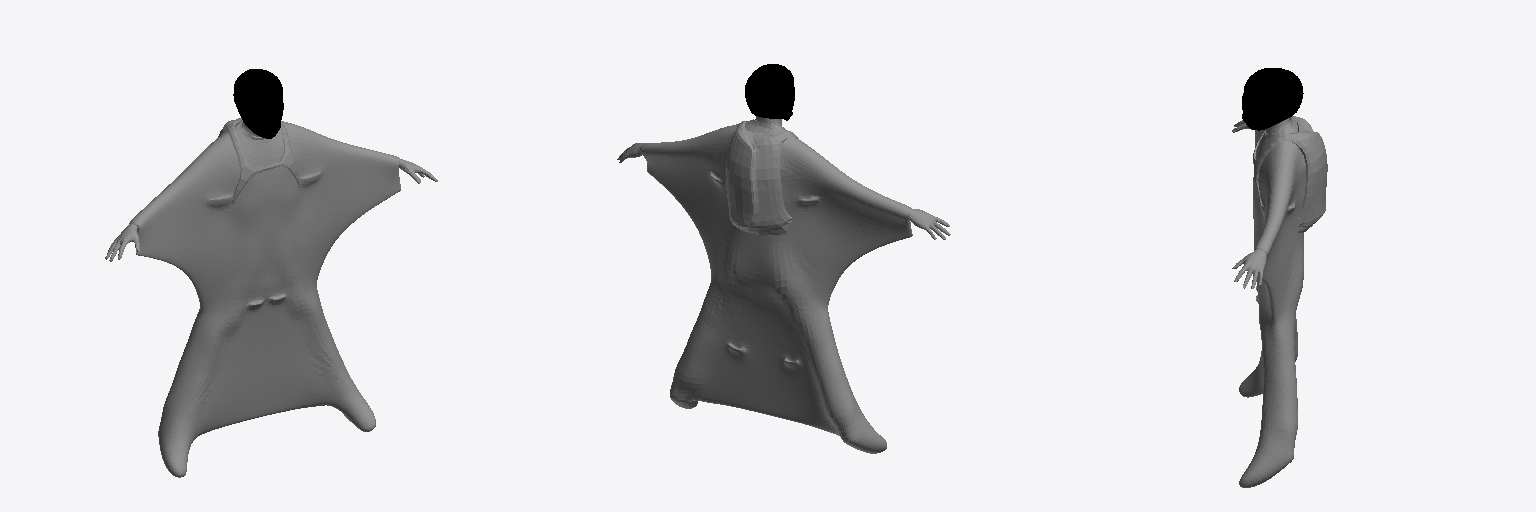
Rendered from WINGSUIT-FLYER.obj.
3 views of the same model, side by side, from view 1: azimuth 30°, elevation 25°; view 2: azimuth 150°, elevation 25°; view 3: azimuth 270°, elevation 25° (orthographic).
Visible parts, largest first — view 1: WINGSUIT_FLYER, HELMET; view 2: WINGSUIT_FLYER, HELMET; view 3: WINGSUIT_FLYER, HELMET.
Part boxes in pixels (bbox=[...]): WINGSUIT_FLYER: bbox=[105, 118, 437, 477]; HELMET: bbox=[233, 69, 283, 138]; WINGSUIT_FLYER: bbox=[617, 116, 950, 453]; HELMET: bbox=[745, 64, 794, 120]; WINGSUIT_FLYER: bbox=[1232, 116, 1327, 487]; HELMET: bbox=[1242, 68, 1303, 130].
Size of the model in its own units: 67.99 by 73.36 by 17.08.